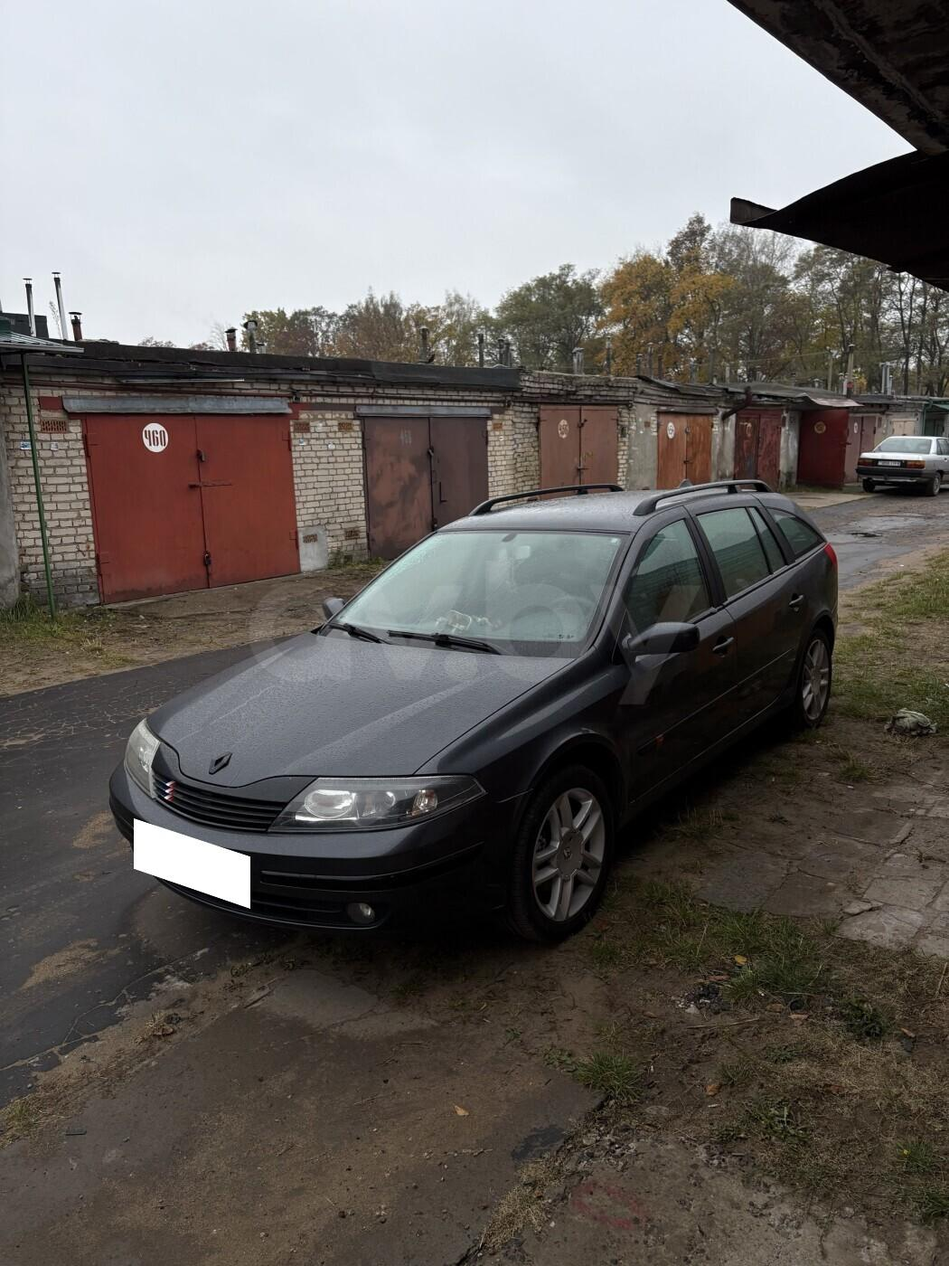Laguna_2001-2005: (109, 480, 836, 941)
